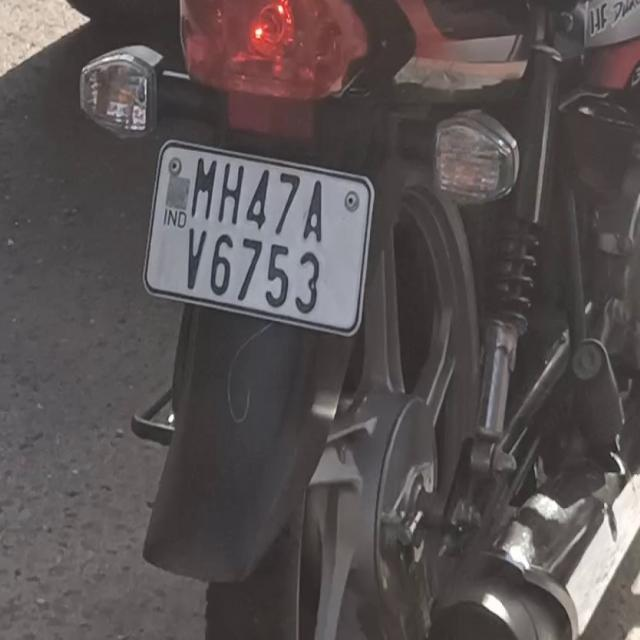license-plate: (145, 144, 370, 332)
